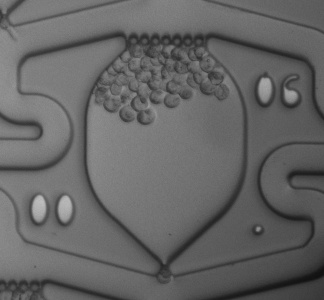AptNum: (249, 66, 309, 114)
Marker: (248, 221, 270, 242)
StNum: (20, 184, 84, 235)
Trap: (133, 257, 190, 300)
